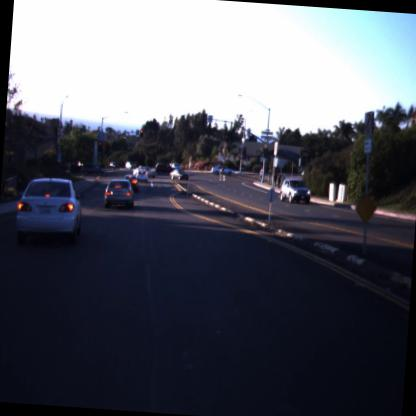trafficlight: (98, 143, 102, 151), (140, 128, 143, 137)
